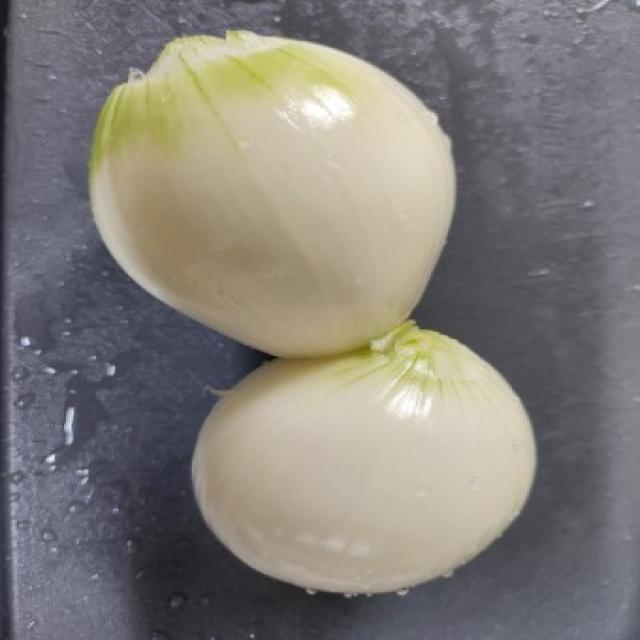onion: (84, 14, 422, 344), (214, 320, 537, 606)
